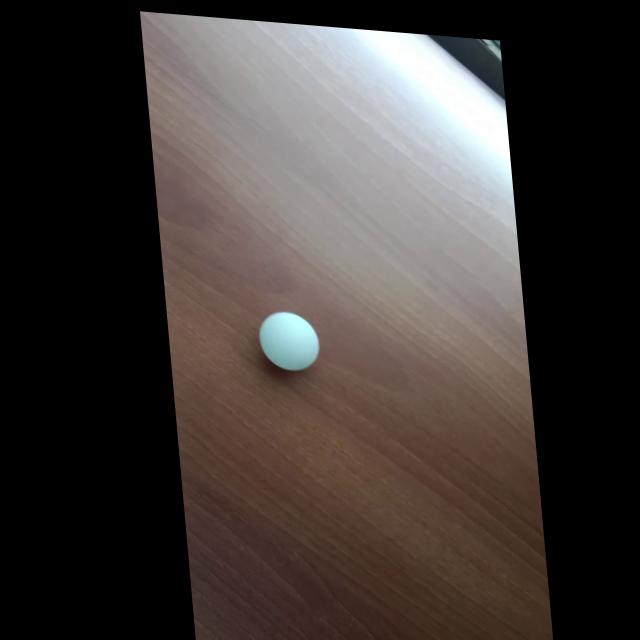white ball: (255, 309, 322, 374)
